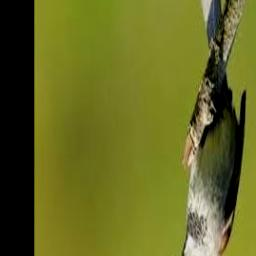Sparrow: (171, 0, 247, 256)
